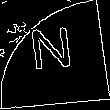N_S: (30, 28, 80, 82)
